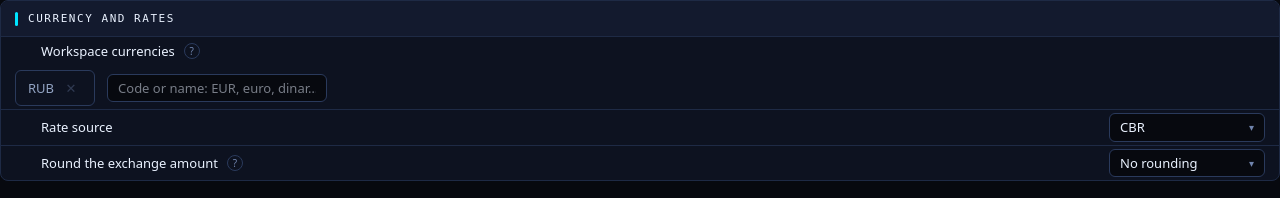
Test: CurrencySettings › чепуха в поиске — честное «не нашлось», а не пустая выпадашка
Type "щщщ" into the dropdown labelled "Code or name: EUR, euro, dinar…". click: (217,88)
box: 107,74 -> 327,102
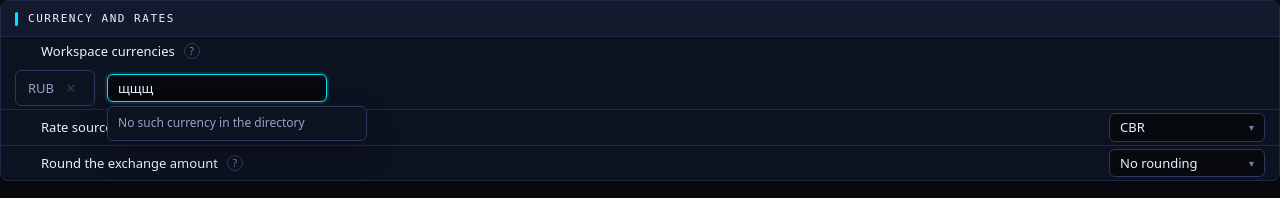
Now the text "No such currency in the directory" is shown, box 118,114 -> 305,132
